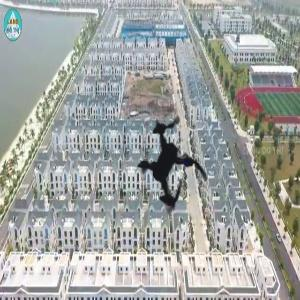drone: (83, 79, 254, 250)
